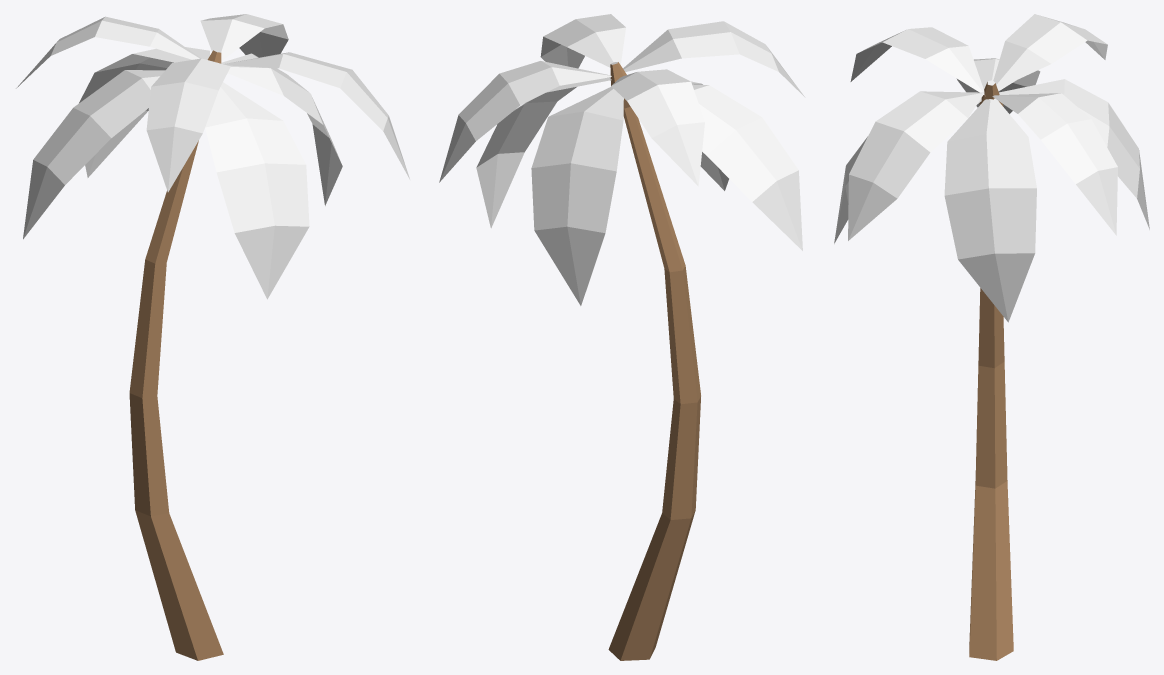
The model's file is Palm_Tree_OneSided_m_Snow_03.fbx.
3 renders of one model, left to right at view 1: azimuth 30°, elevation 25°; view 2: azimuth 150°, elevation 25°; view 3: azimuth 270°, elevation 25°, orthographic. The views are drawn at different scales.
Parts seen in each view (by area): view 1: Palm_Tree_OneSided_m_Snow_03; view 2: Palm_Tree_OneSided_m_Snow_03; view 3: Palm_Tree_OneSided_m_Snow_03.
Boxes of the visible parts, bbox=[...] form: Palm_Tree_OneSided_m_Snow_03: bbox=[16, 14, 409, 660]; Palm_Tree_OneSided_m_Snow_03: bbox=[439, 14, 805, 660]; Palm_Tree_OneSided_m_Snow_03: bbox=[834, 14, 1149, 660].
Bounding box in the file's own units: 301 × 563 × 269.
